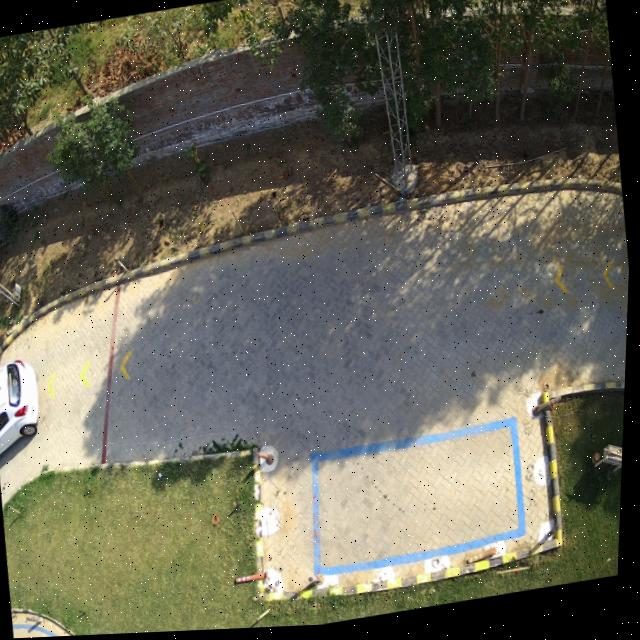car: (0, 360, 42, 460)
